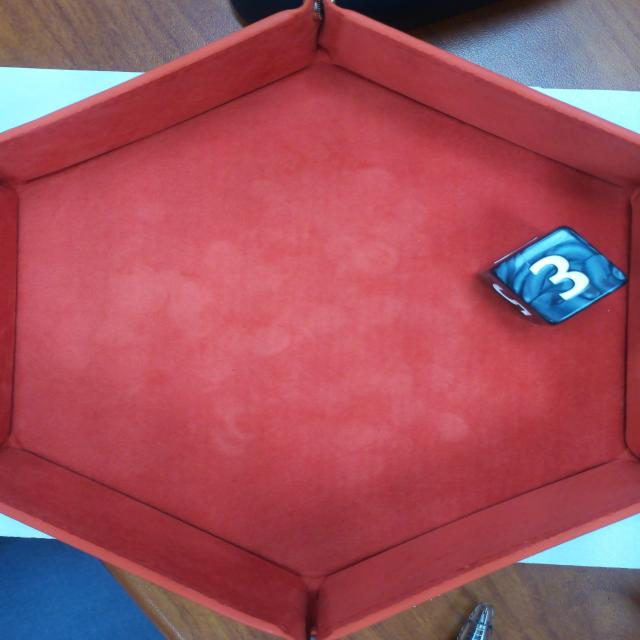dice: (486, 222, 634, 329)
